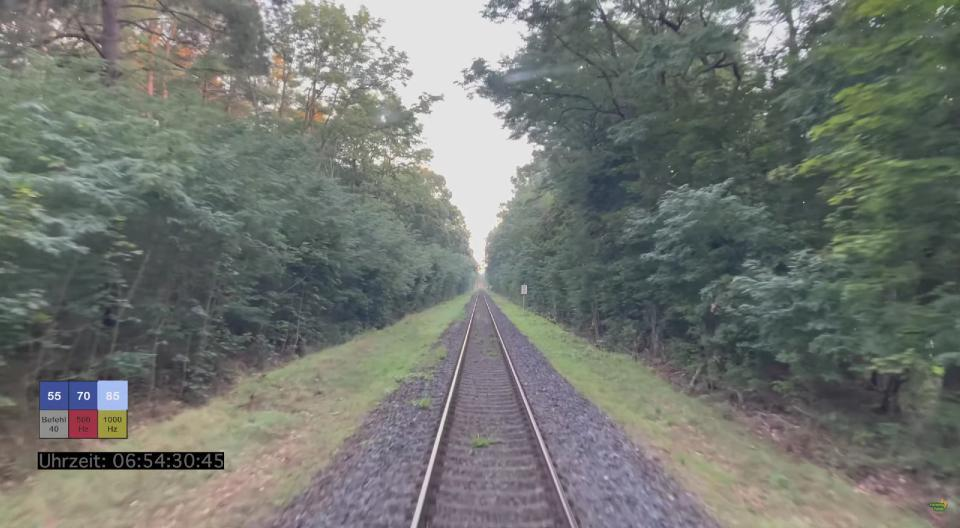Plant: (398, 344, 448, 387), (470, 437, 500, 448), (414, 397, 432, 408), (453, 309, 469, 320), (484, 348, 499, 356)
